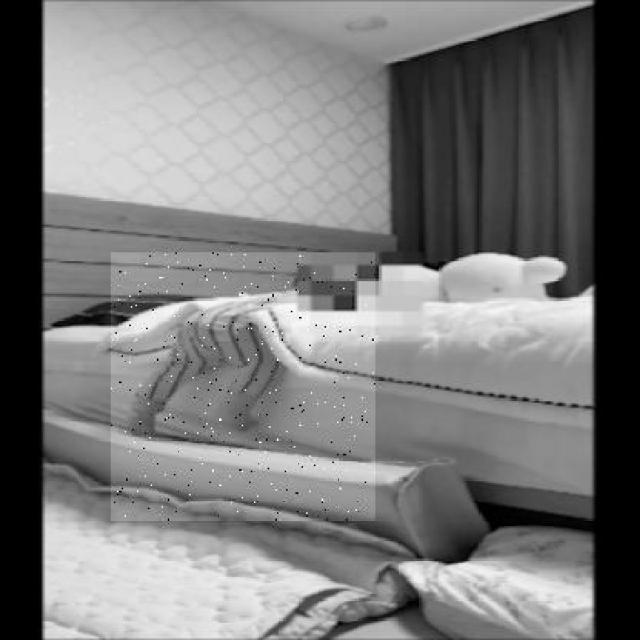child: (111, 252, 375, 520)
